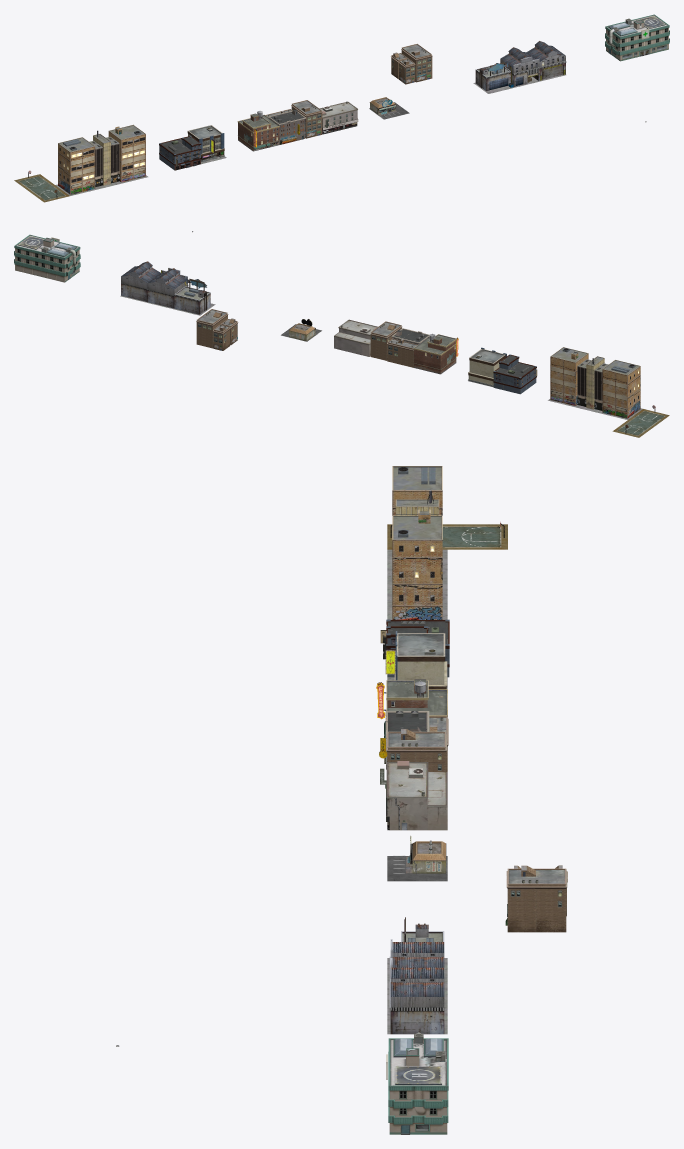
The model's file is predios (3).glb.
3 renders of one model, top to bottom at view 1: azimuth 30°, elevation 25°; view 2: azimuth 150°, elevation 25°; view 3: azimuth 270°, elevation 25°, orthographic. The views are drawn at different scales.
Visible parts, largest first — view 1: LM_Clinic2, pasted__pCube27, Filler_Apartments2, pasted__pCube20, LM_Basketball9, pCube6, pasted__pCube1, pasted__pCube19, pasted__polySurface17, pCube21, pasted__pCube28, pasted__pCube18 (+4 smaller); view 2: LM_Clinic2, pasted__pCube27, pasted__pCube20, Filler_Apartments2, LM_Basketball9, pasted__pCube1, pasted__pCube3, pasted__pCube2, pasted__pCube19, pCube31, pasted__pCube18, Filler_SalsT8_group8_pCube11 (+6 smaller); view 3: LM_Clinic2, pasted__pCube20, Filler_SalsT8_group8_pCube11, polySurface139 (×2), pasted__pCube2, LM_Basketball9, pasted__pCube27, pCube31, pasted__polySurface804, Filler_Apartments2, polySurface113, pasted__polySurface17 (+1 smaller).
Boxes of the visible parts, box(x1,y1,x2,y2) form: LM_Clinic2: box(605, 14, 669, 61); pasted__pCube27: box(58, 137, 95, 184); Filler_Apartments2: box(159, 135, 201, 170); pasted__pCube20: box(108, 124, 145, 172); LM_Basketball9: box(14, 170, 69, 202); pCube6: box(242, 116, 271, 146); pasted__pCube1: box(475, 66, 510, 91); pasted__pCube19: box(93, 134, 110, 185); pasted__polySurface17: box(526, 45, 565, 67); pCube21: box(268, 110, 305, 137); pasted__pCube28: box(58, 176, 95, 194); pasted__pCube18: box(106, 136, 119, 183); LM_Clinic2: box(14, 234, 80, 282); pasted__pCube27: box(602, 360, 640, 408); pasted__pCube20: box(550, 347, 588, 395); Filler_Apartments2: box(493, 354, 537, 394); LM_Basketball9: box(612, 405, 669, 437); pasted__pCube1: box(174, 286, 210, 314); pasted__pCube3: box(147, 281, 187, 308); pasted__pCube2: box(121, 276, 147, 301); pasted__pCube19: box(586, 356, 604, 409); pCube31: box(334, 332, 370, 352); pasted__pCube18: box(577, 359, 590, 406); Filler_SalsT8_group8_pCube11: box(196, 315, 227, 348); LM_Clinic2: box(386, 1032, 448, 1134); pasted__pCube20: box(392, 515, 442, 604); Filler_SalsT8_group8_pCube11: box(507, 889, 566, 932); polySurface139 (×2): box(387, 731, 566, 888); pasted__pCube2: box(390, 997, 444, 1034); LM_Basketball9: box(387, 522, 507, 549); pasted__pCube27: box(392, 466, 442, 515); pCube31: box(387, 772, 447, 821); pasted__polySurface804: box(396, 633, 445, 661); Filler_Apartments2: box(380, 619, 449, 677); polySurface113: box(388, 763, 426, 796); pasted__polySurface17: box(390, 978, 444, 996).
Size of the model in its own units: 43220 by 3188 by 13473.
121 materials, 41 textured.
